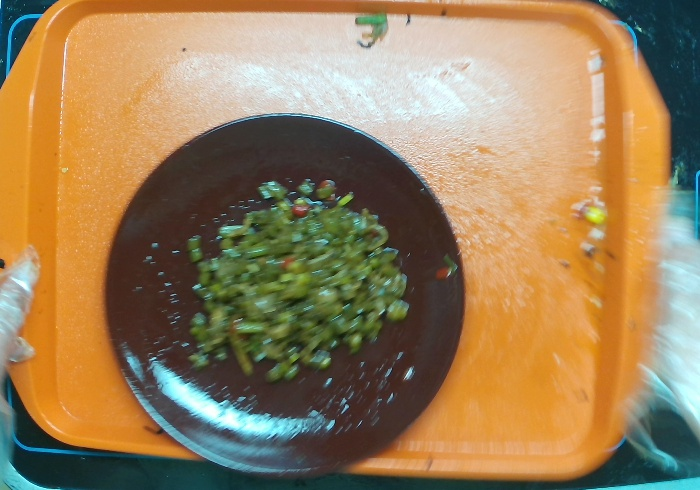HZYJPL-Ka_Fei_Yuan_Pan: (95, 107, 472, 480)
